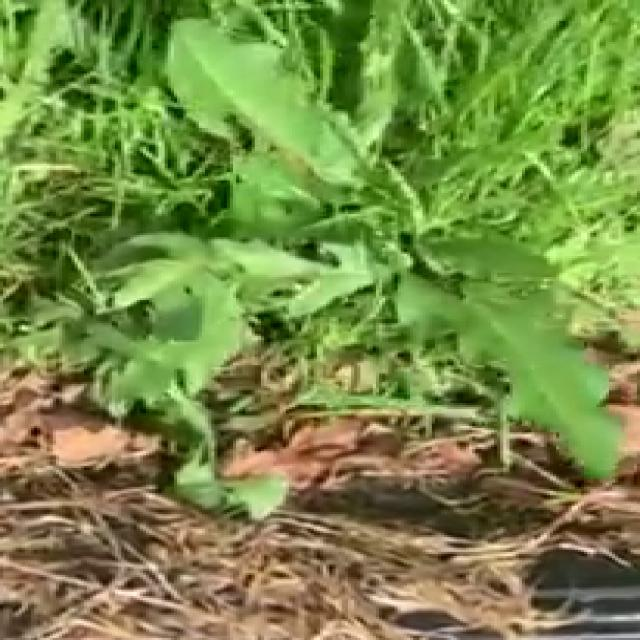organic waste: (46, 0, 640, 535)
